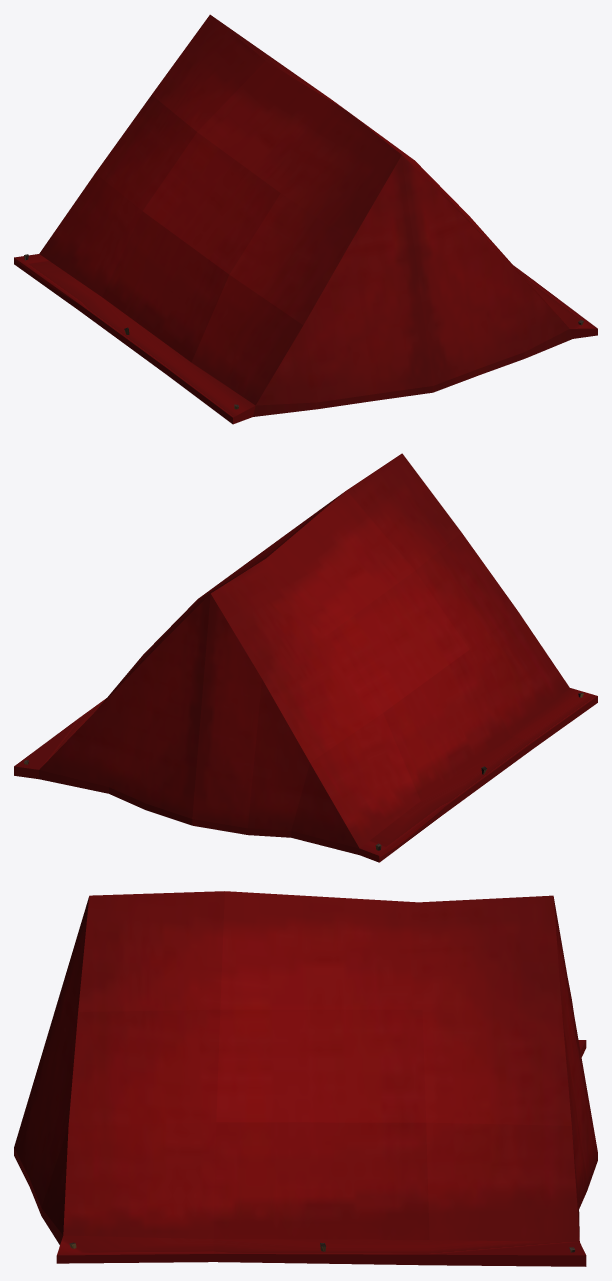
Rendered from tent_Red.fbx.
3 renders of one model, top to bottom at view 1: azimuth 30°, elevation 25°; view 2: azimuth 150°, elevation 25°; view 3: azimuth 270°, elevation 25°, orthographic. The views are drawn at different scales.
Visible parts, largest first — view 1: Tent_Red; view 2: Tent_Red; view 3: Tent_Red.
Part boxes in pixels (box(x1,y1,x2,y2)): Tent_Red: box(14, 14, 597, 424); Tent_Red: box(14, 453, 597, 862); Tent_Red: box(14, 891, 597, 1266).
Bounding box in the file's own units: 6.34 × 7.24 × 3.69.
Materials: 2 (2 with a texture image).
